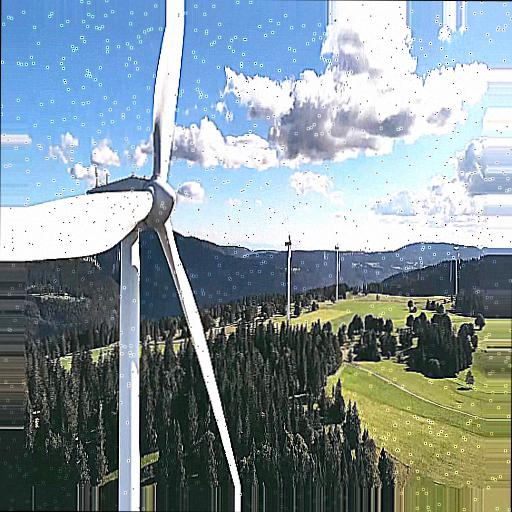wind turbine: (1, 1, 246, 485)
